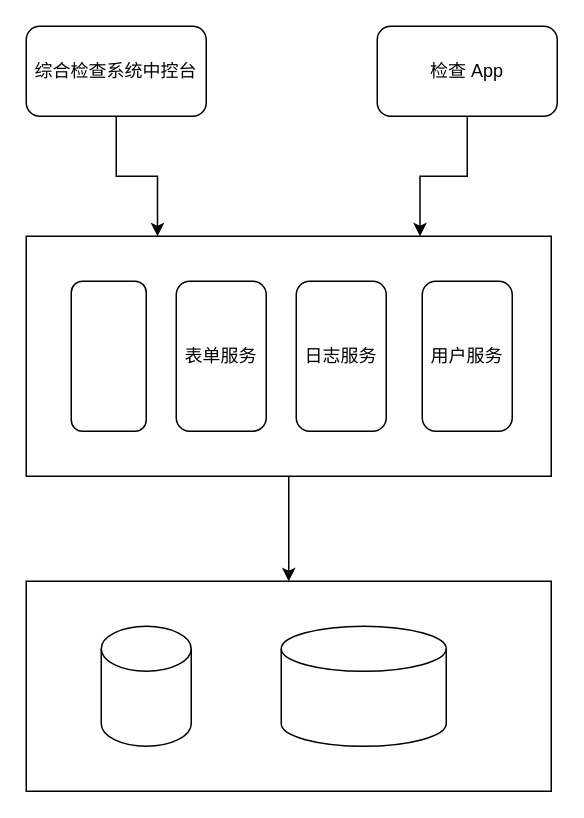
Image size: 584x818. Some labels were removed from this diagram. The shapes that lost their labels are listed below. From the top down, each one's centre as x and y in pixels, then its label:
At point (108, 355): "认证服务".
At point (145, 685): "MongoDB".
At point (363, 685): "ElasticSearch".
